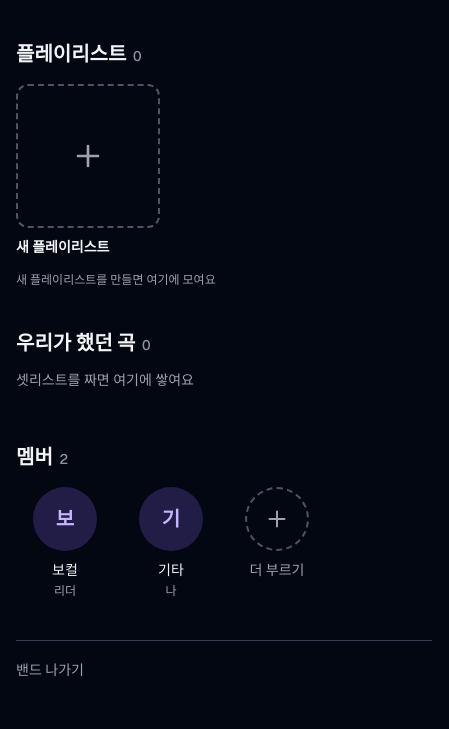
it: BandHomeClient leave row (디자인 2회차 1A·5A·6A·8A) › shows the failure under the row
The width and height of the screenshot is (449, 729).
(page scrolled)
Step 1. Click the button "밴드 나가기" → point(50, 671), box [16,649,84,693]
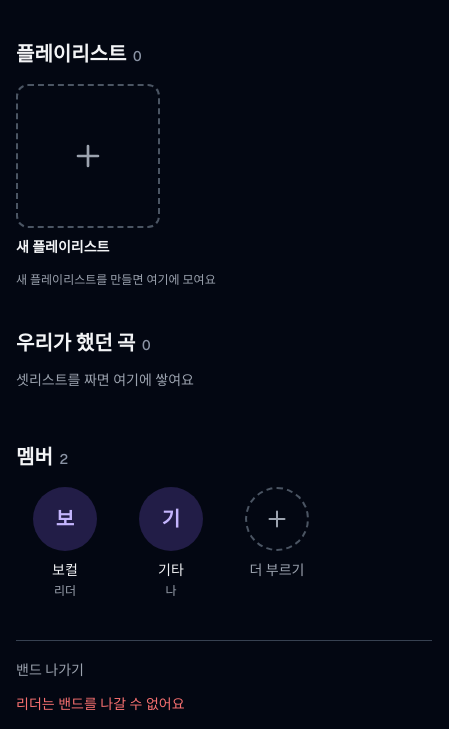
Expected: the message reads "리더는 밴드를 나갈 수 없어요", [16,695,185,713]
